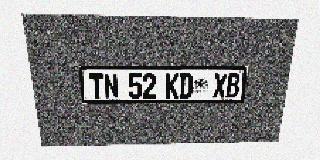2: (143, 73, 156, 98)
5: (128, 73, 142, 99)
B: (226, 73, 241, 98)
D: (179, 73, 193, 98)
K: (165, 73, 179, 98)
N: (103, 73, 118, 99)
T: (89, 73, 105, 99)
X: (213, 73, 227, 98)
